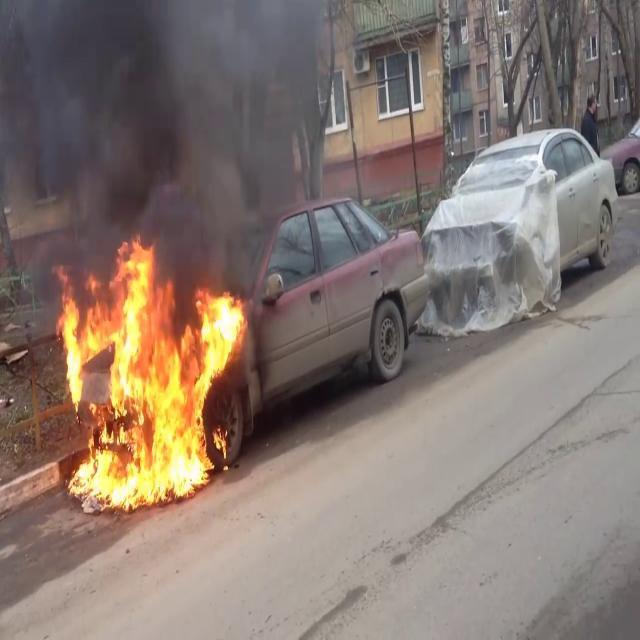Fire: (51, 236, 248, 514)
Smoke: (0, 0, 332, 282)
